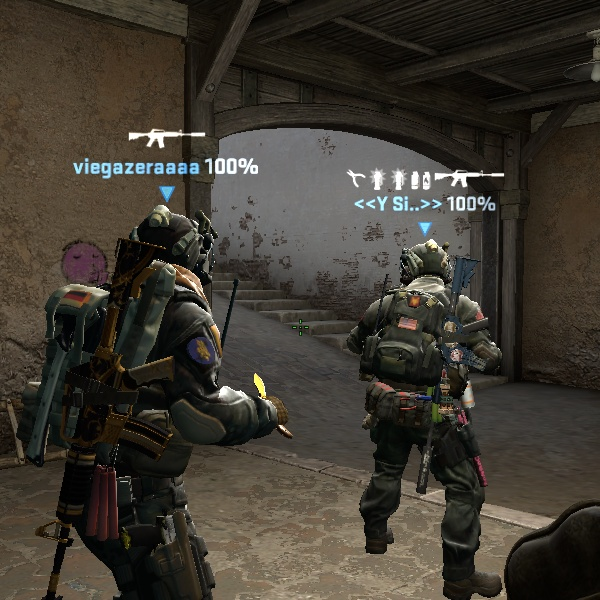ct_body: (45, 198, 266, 600), (303, 239, 539, 588)
ct_head: (131, 200, 218, 282), (394, 238, 458, 295)
